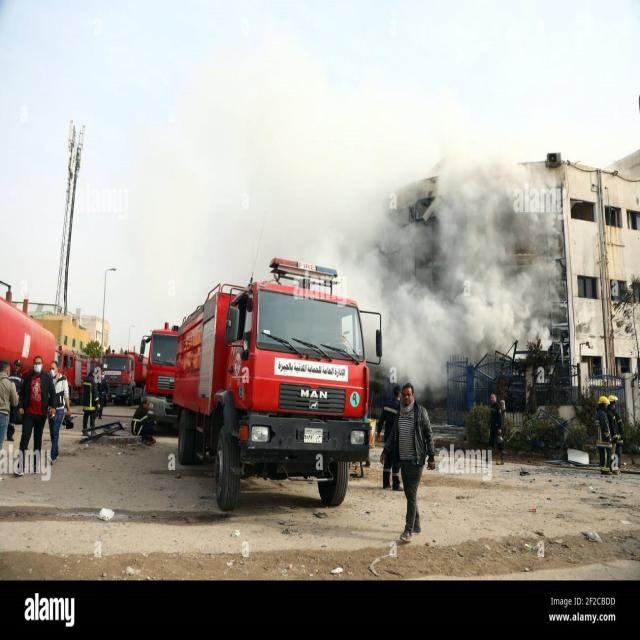Fire-truck: (171, 256, 383, 512), (87, 342, 144, 398)
person: (380, 382, 436, 542), (374, 384, 404, 491), (47, 360, 71, 464), (594, 395, 614, 474), (606, 394, 624, 472), (130, 396, 157, 445), (488, 393, 504, 465)
